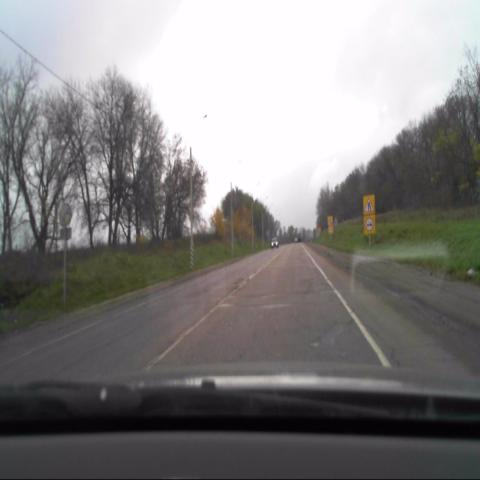1_20_2: (363, 195, 375, 213)
3_20: (364, 214, 376, 233)
